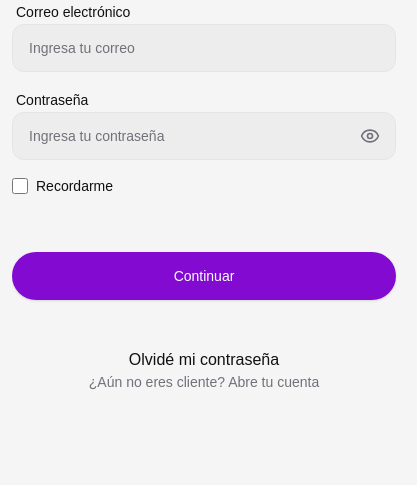
Test: Login (sin 2FA) — Pruebas de integración (tabla de caminos Frontend↔Backend) › Camino 1,2,4,5,6,15,17,F — datos válidos en cliente, servidor responde 400 VALIDATION_ERROR › muestra el mensaje de error devuelto por el servidor (VALIDATION_ERROR)
This screenshot has width=417, height=485.
Type "ana@mail.com" into the field labelled "Correo electrónico" at (204, 48), box [12,24,396,72]
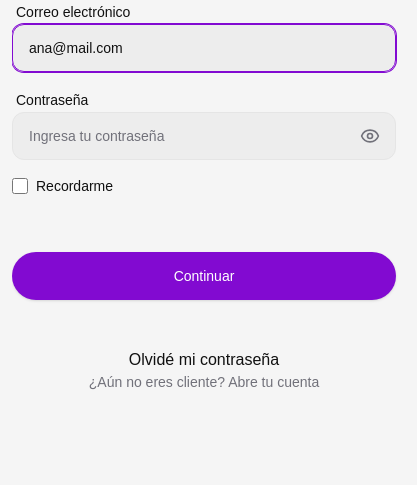
Type "abc123" into the password field labelled "Contraseña" at (204, 136), box [12,112,396,160]
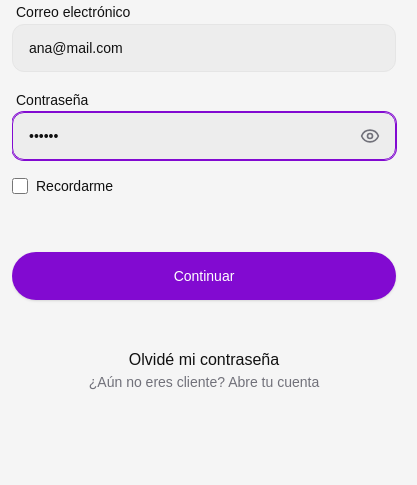
Click the button "Continuar" at (204, 276), box [12,252,396,300]
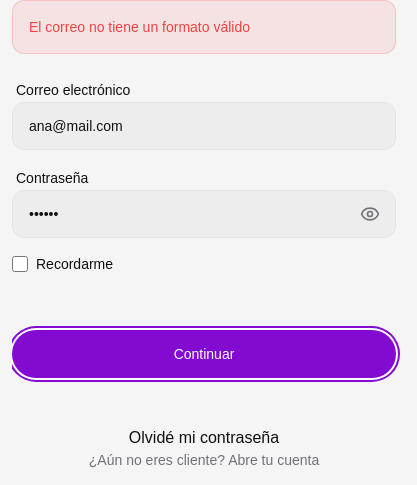
Result: the text "El correo no tiene un formato válido" is shown at [12,0,396,54]
